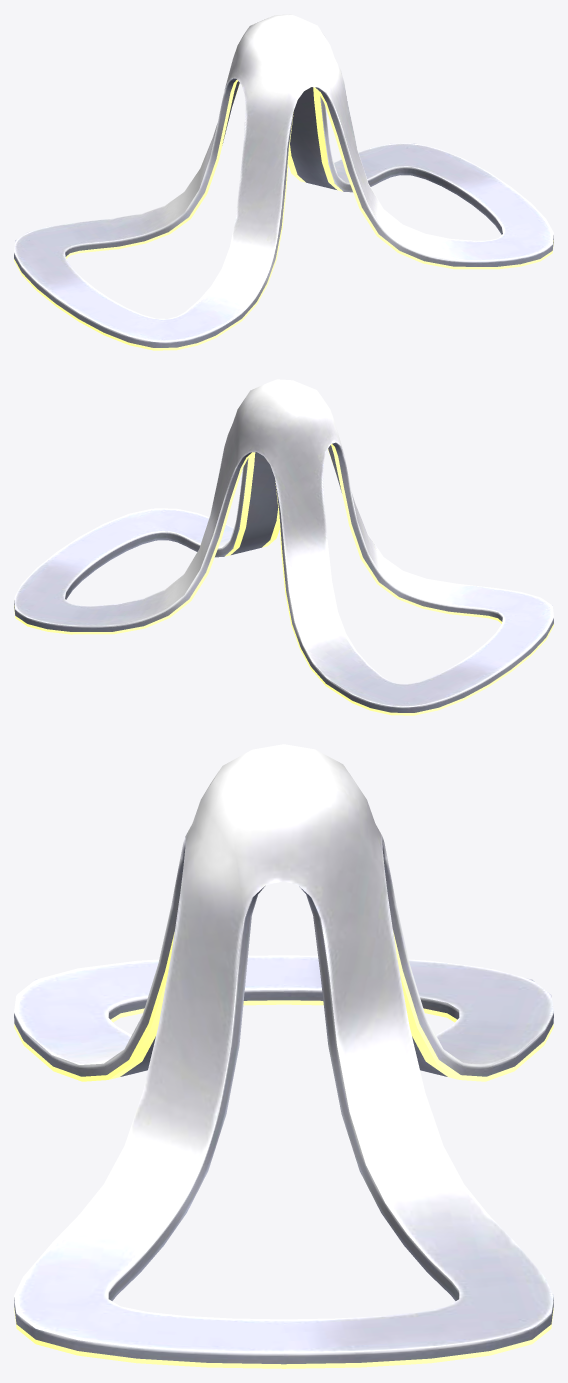
File: obj_decoration03.gltf
3 views of the same model, one above another, from view 1: azimuth 30°, elevation 25°; view 2: azimuth 150°, elevation 25°; view 3: azimuth 270°, elevation 25° (orthographic). The views are drawn at different scales.
Parts seen in each view (by area): view 1: obj_decoration03; view 2: obj_decoration03; view 3: obj_decoration03.
Part boxes in pixels (<box>): obj_decoration03: <box>14,14,553,350</box>; obj_decoration03: <box>14,379,553,715</box>; obj_decoration03: <box>14,744,553,1368</box>.
Size of what is drawn, in the model's own units: 5.37 by 2.63 by 3.08.
2 materials, 1 textured.
